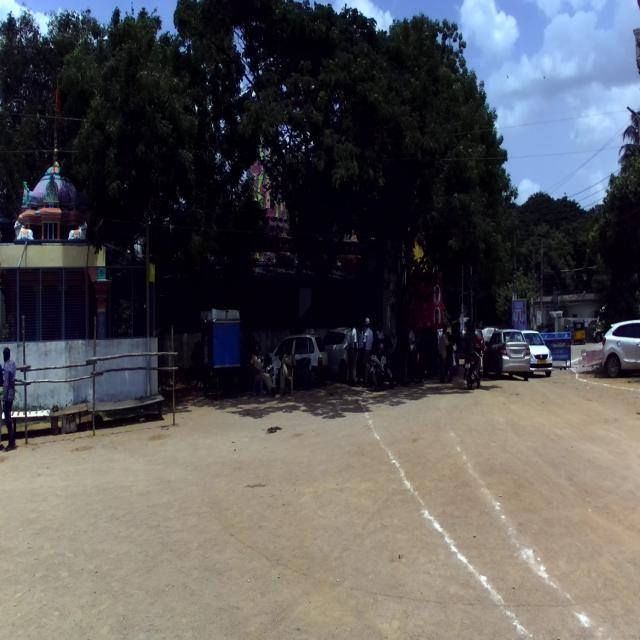Car_Maruti-Suzuki: (270, 332, 328, 389), (480, 328, 530, 378), (517, 326, 553, 380)
